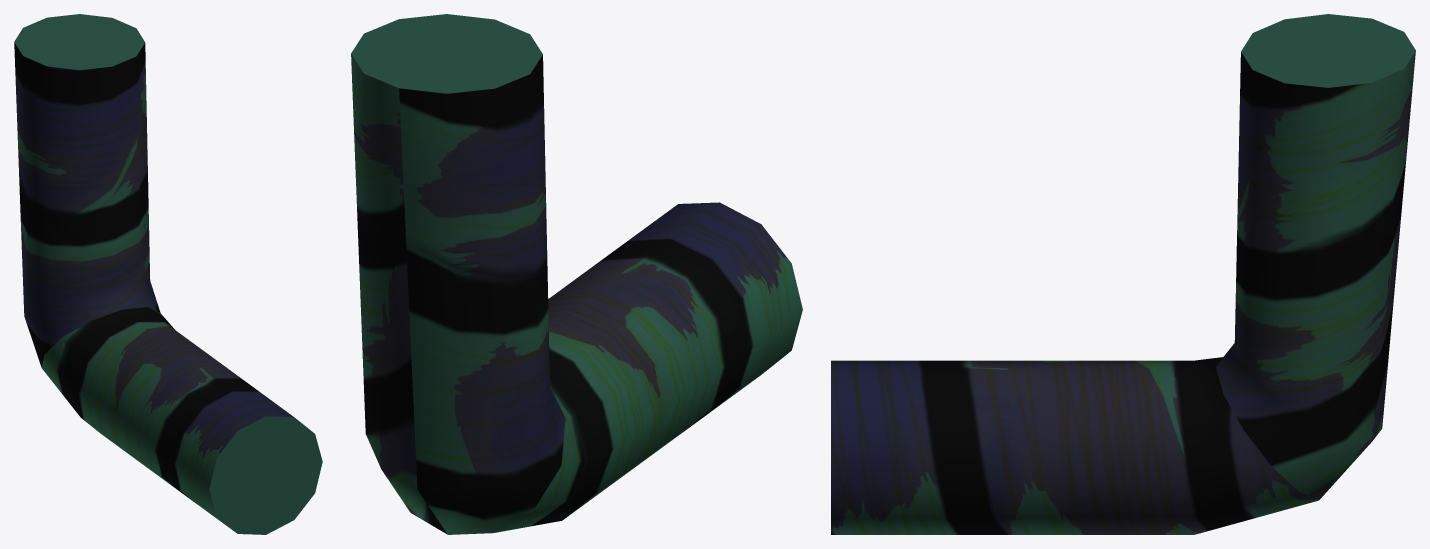
Rendered from turnwire.fbx.
The picture shows the model from 3 angles, left to right: view 1: azimuth 30°, elevation 25°; view 2: azimuth 150°, elevation 25°; view 3: azimuth 270°, elevation 25°; orthographic projection. The views are drawn at different scales.
Visible parts, largest first — view 1: turnwire; view 2: turnwire; view 3: turnwire.
Boxes of the visible parts, <box> form: turnwire: <box>14,14,322,534</box>; turnwire: <box>351,14,802,534</box>; turnwire: <box>831,14,1415,534</box>.
Size of the model in its own units: 10.12 by 30.41 by 33.81.
Materials: 1 (1 with a texture image).
